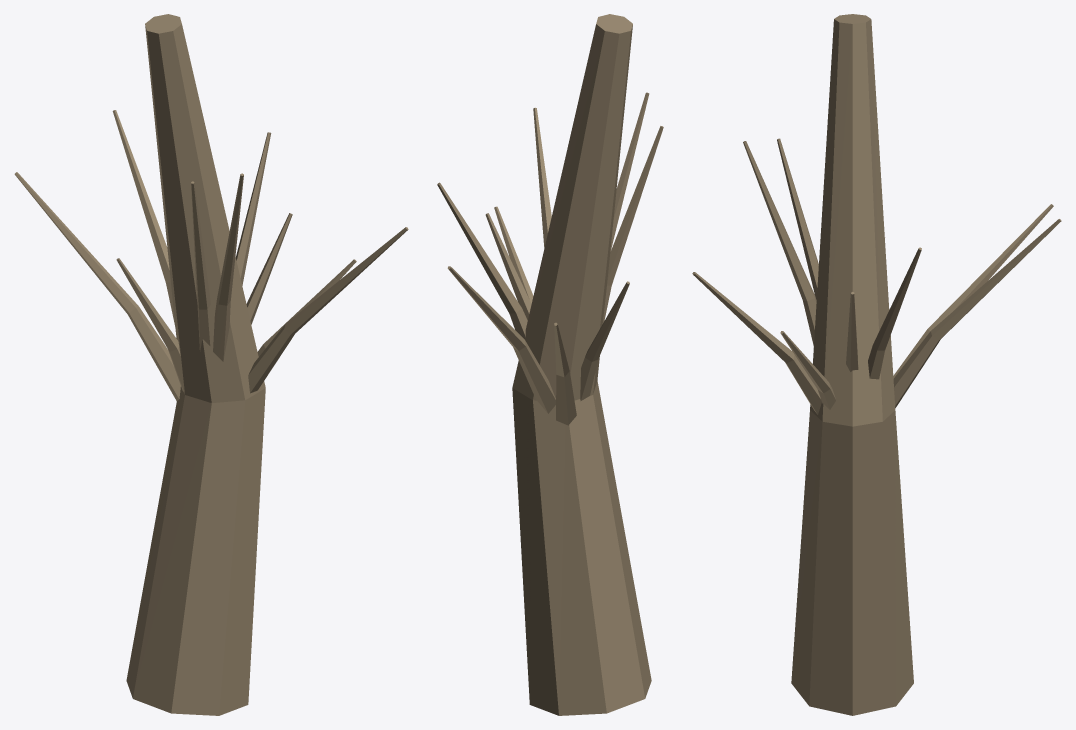
Rendered from desert-canyons-and-oases-dead-desert-snag-14b4b460__21031.glb.
The picture shows the model from 3 angles, left to right: view 1: azimuth 30°, elevation 25°; view 2: azimuth 150°, elevation 25°; view 3: azimuth 270°, elevation 25°; orthographic projection. The views are drawn at different scales.
Visible parts, largest first — view 1: dead-desert-snag; view 2: dead-desert-snag; view 3: dead-desert-snag.
Part boxes in pixels (bbox=[...]): dead-desert-snag: bbox=[14, 14, 408, 715]; dead-desert-snag: bbox=[437, 14, 663, 715]; dead-desert-snag: bbox=[692, 14, 1061, 715].
Size of the model in its own units: 0.8743 by 2.74 by 1.38.
